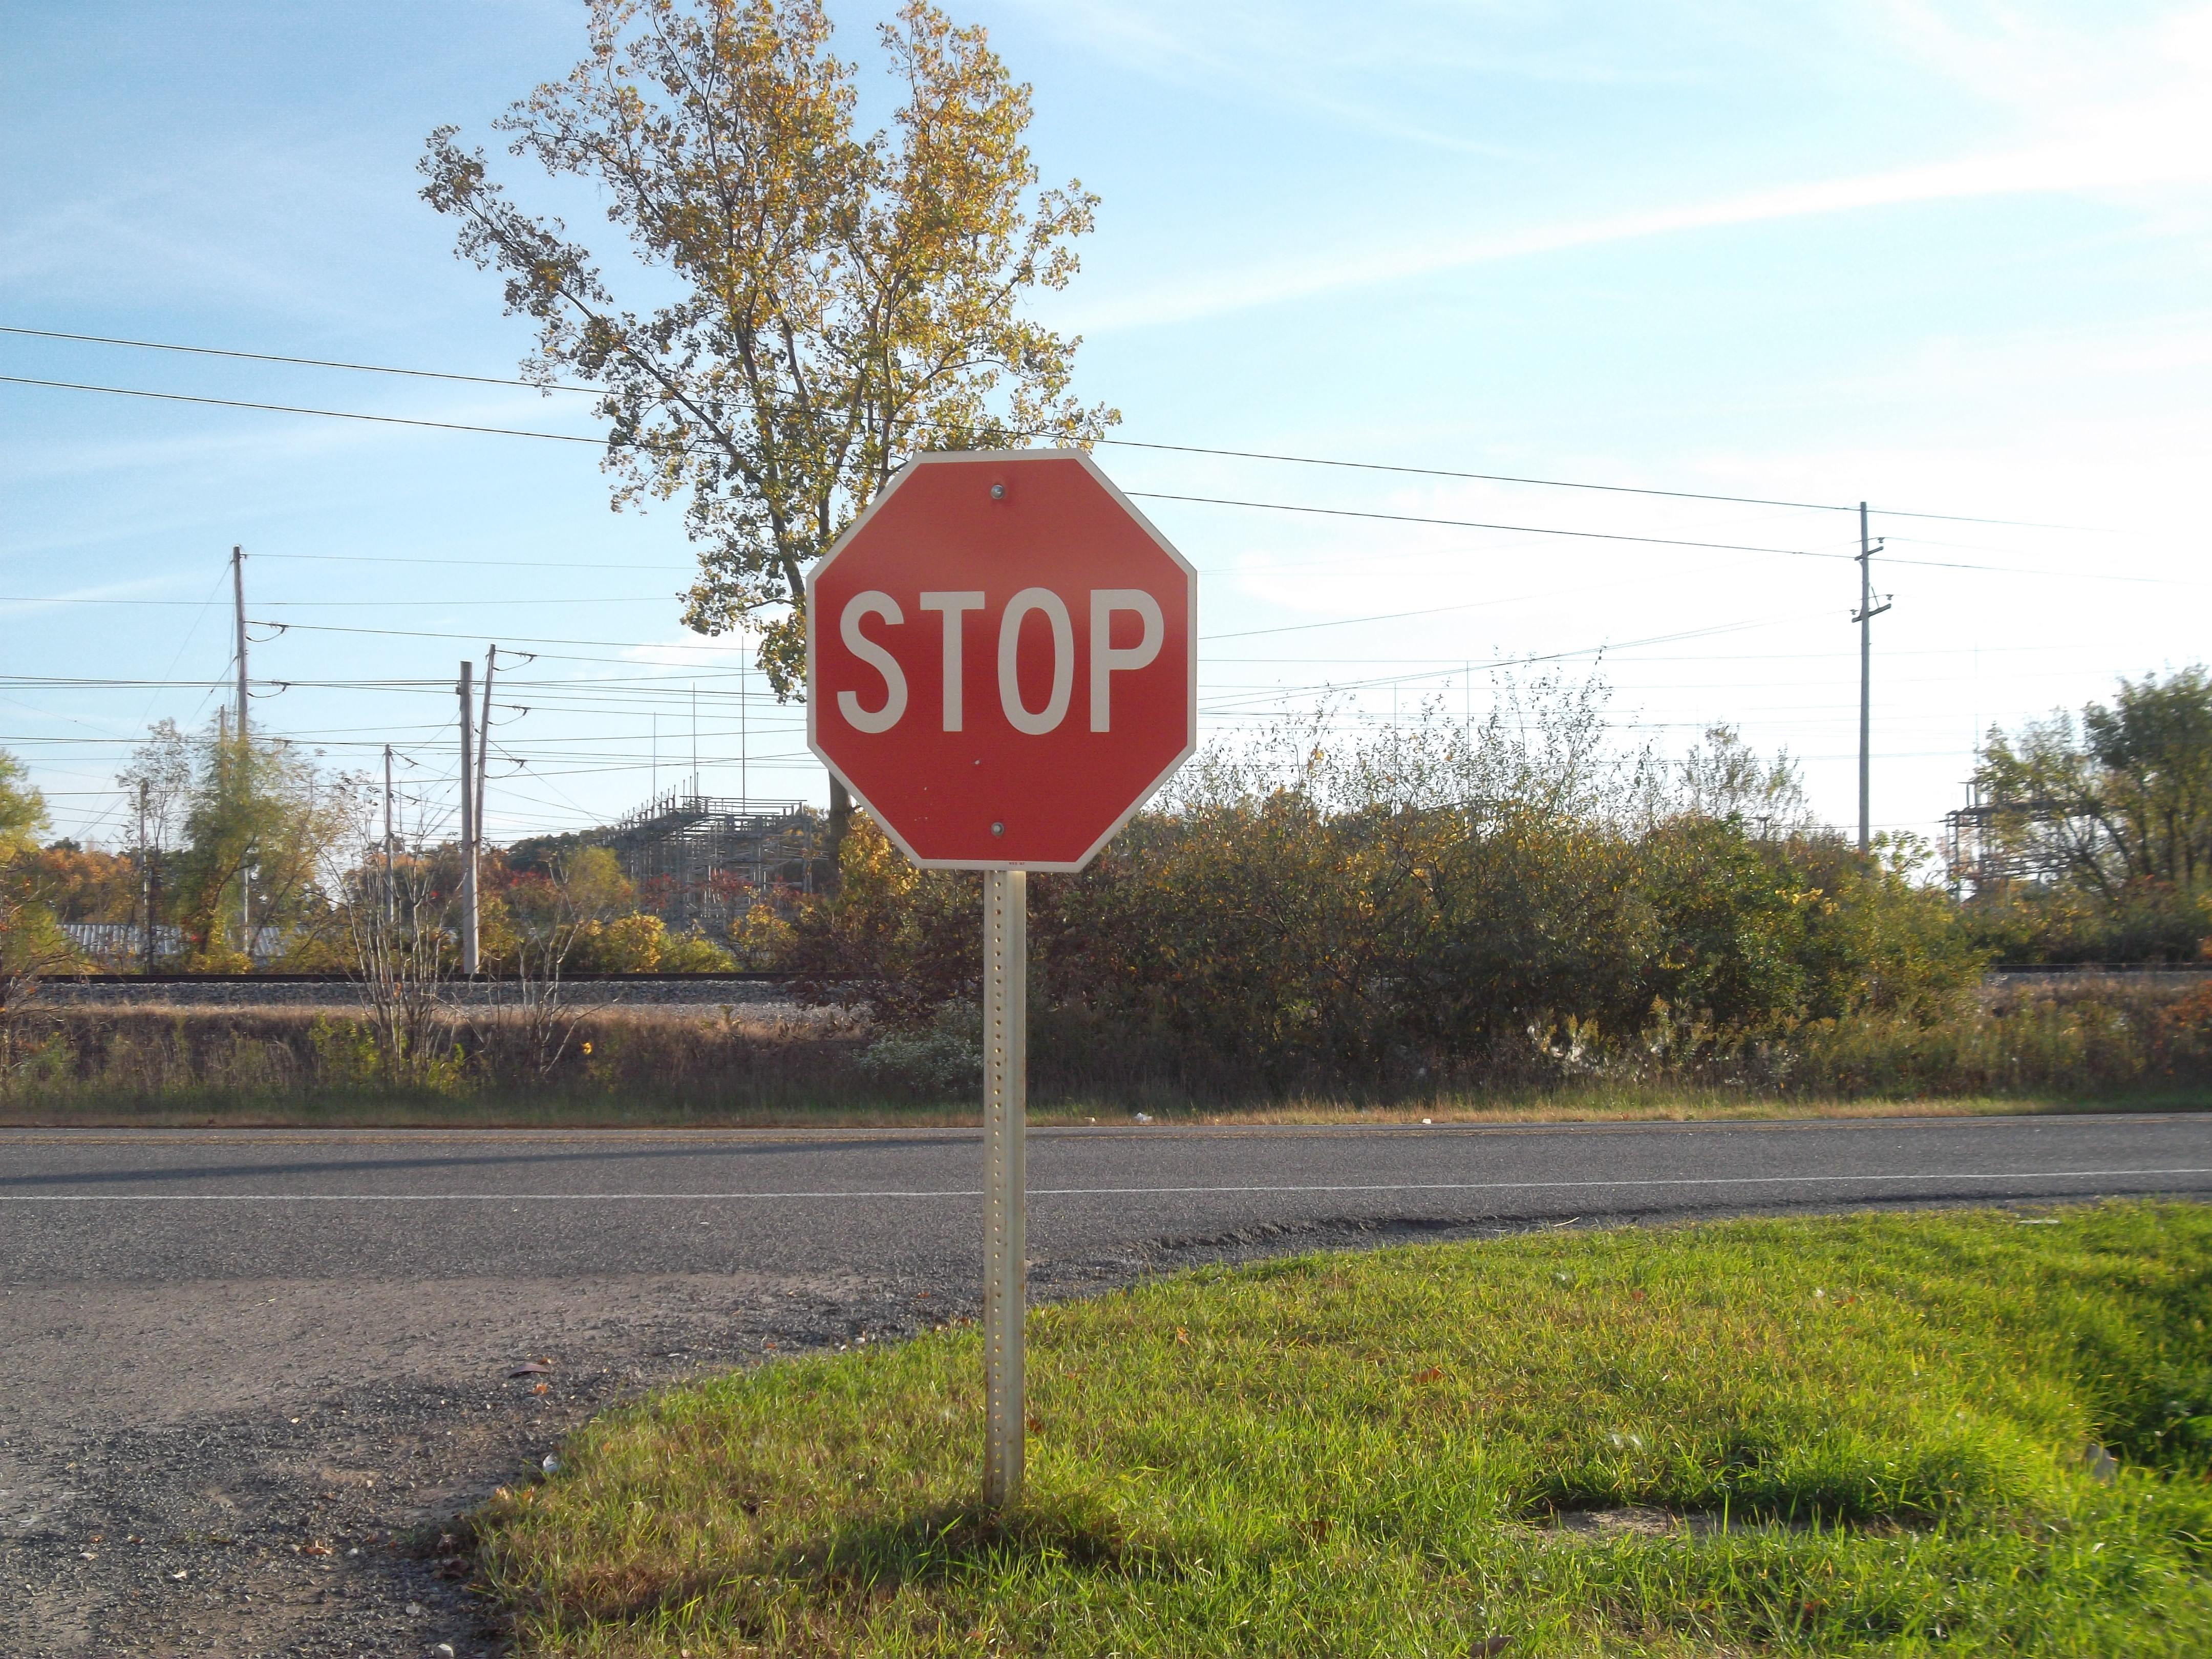stop: (792, 427, 1216, 892)
